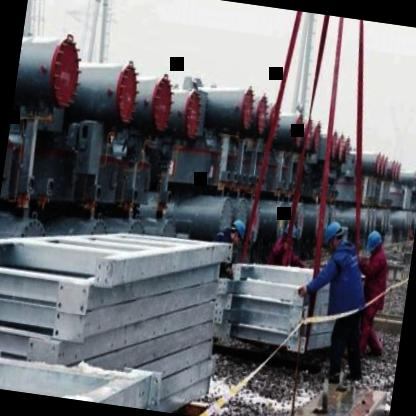helmet: (320, 219, 348, 256), (364, 228, 386, 260), (228, 216, 250, 244)
